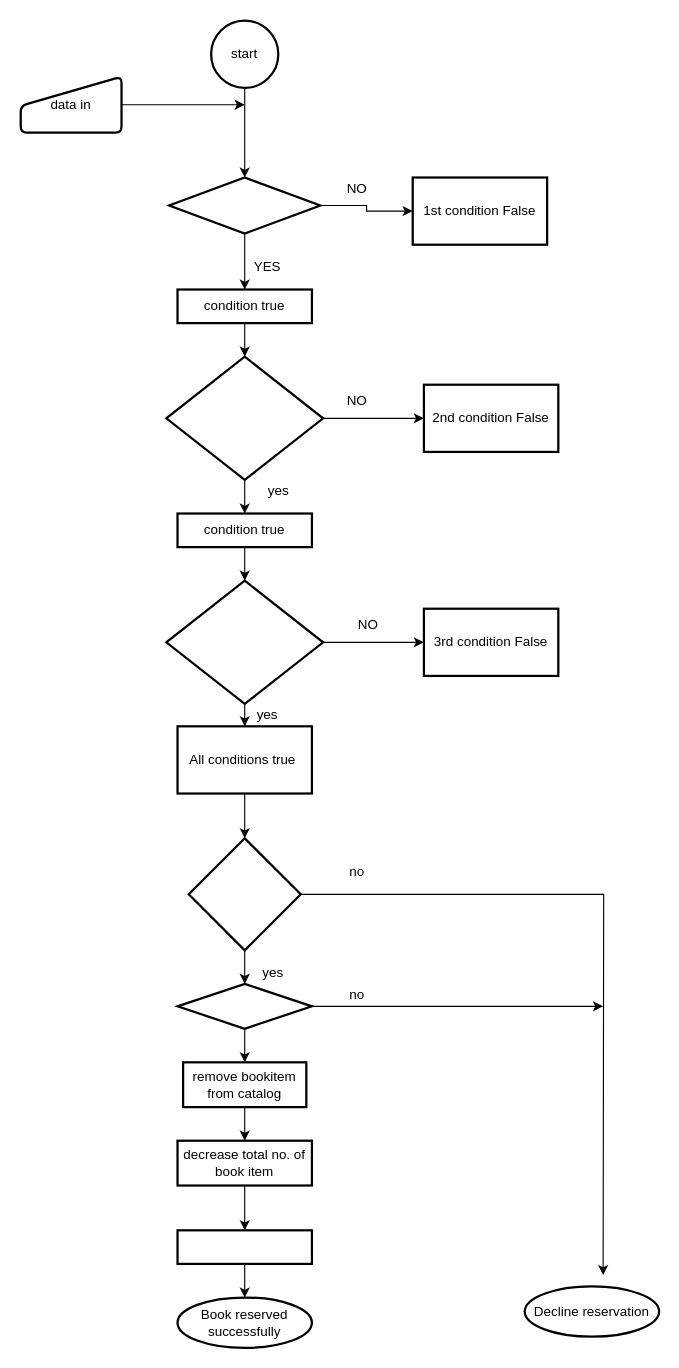
The diagram is 679 pixels wide and 1368 high, and some of its shapes have lost their labels. Each missing label, with the centre of its shape:
"Add book to members issued list" belongs at (x=244, y=1246).
"duration days less than 10 days" belongs at (x=244, y=417).
"is book available" belongs at (x=244, y=894).
"is membership ative" belongs at (x=244, y=205).
"Is requested book item available" belongs at (x=244, y=1005).
"issued less than 3 books" belongs at (x=244, y=641).
